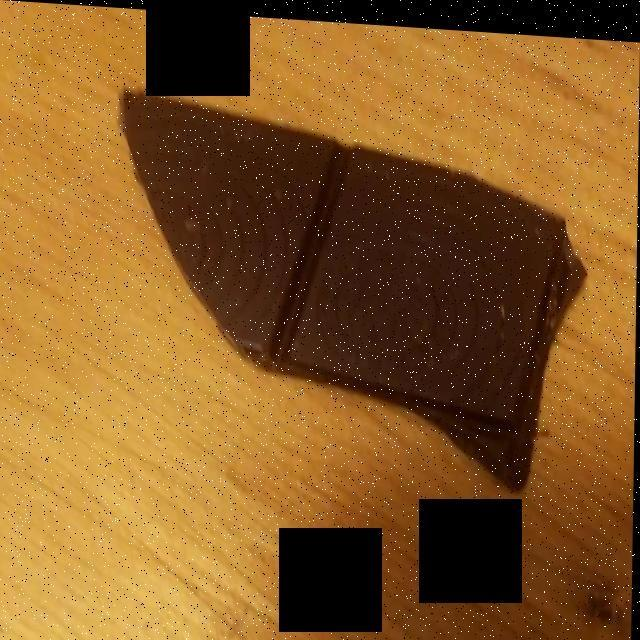chocolate: (137, 102, 580, 471)
